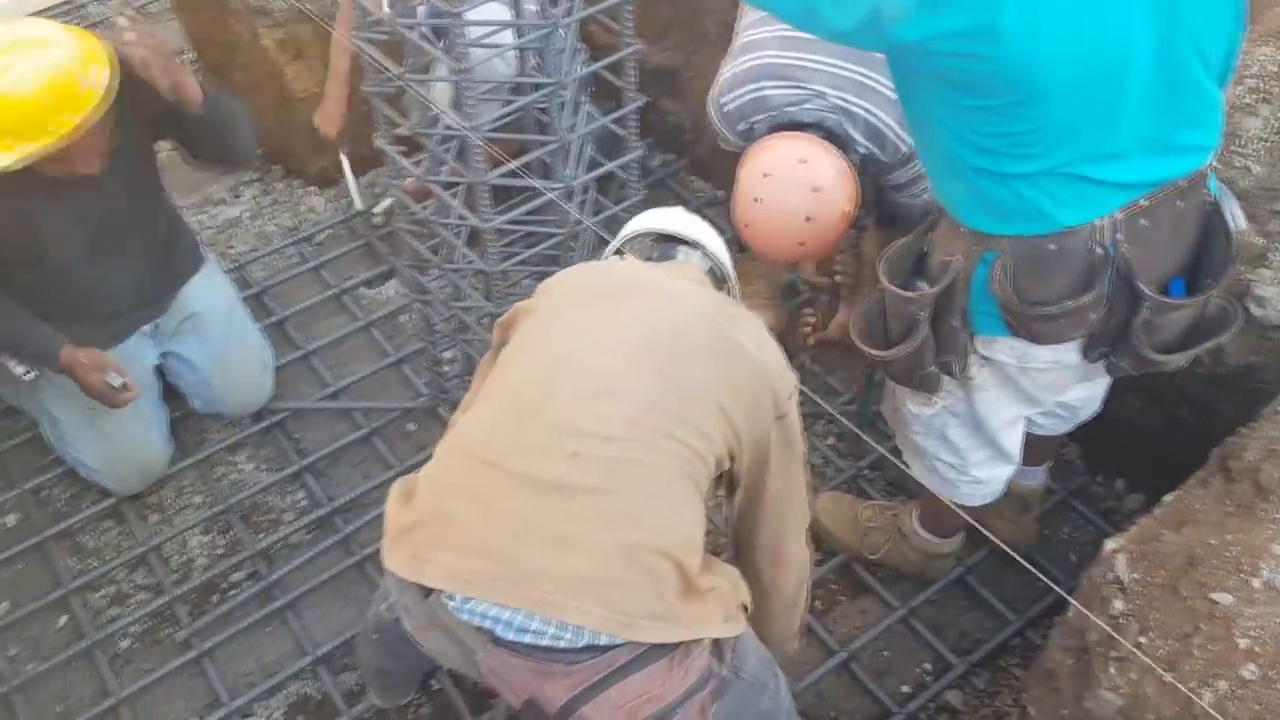helmet: (0, 24, 120, 178), (728, 140, 861, 258), (600, 203, 736, 281)
helmet-on: (0, 22, 164, 185), (728, 124, 873, 258), (597, 197, 746, 306)
person: (765, 0, 1257, 578), (362, 189, 817, 720), (0, 0, 284, 501), (706, 0, 937, 362)
